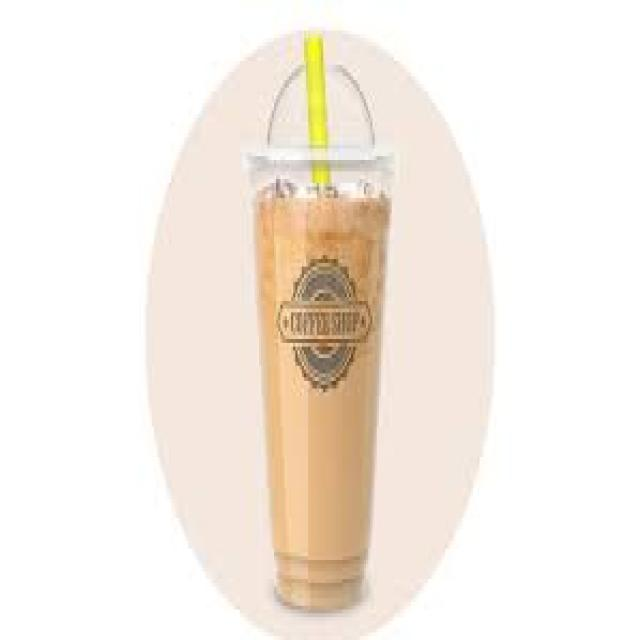bottle: (249, 158, 393, 608)
